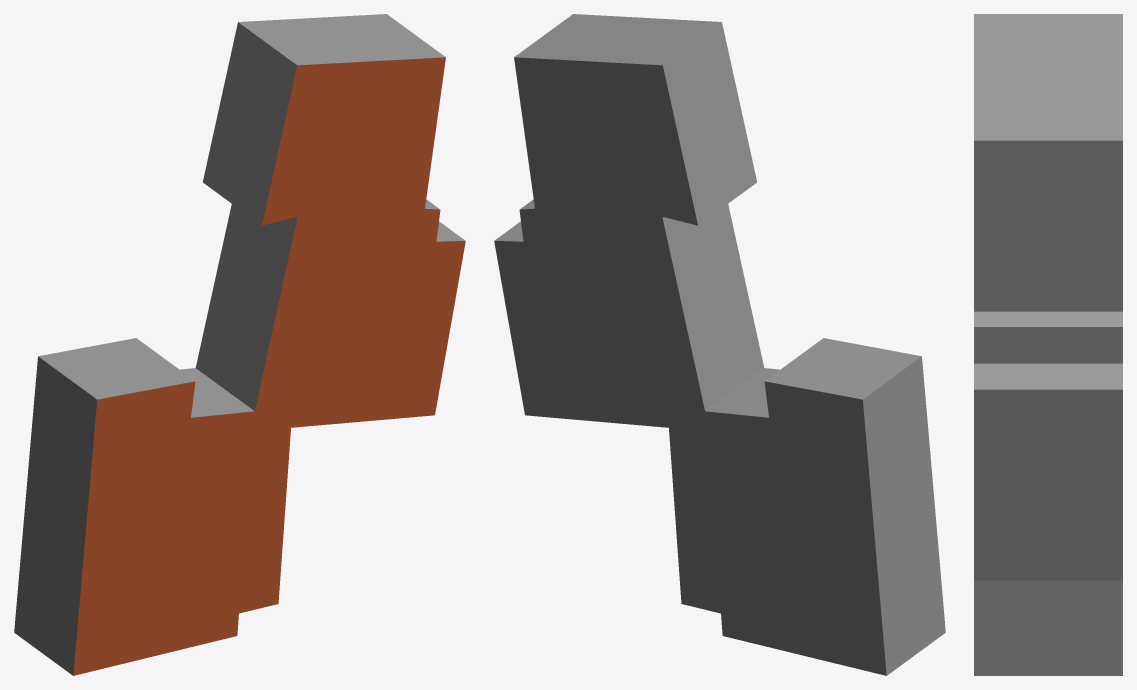
Rendered from construction_6181_assumed_A_Casa_h6m.obj.
The picture shows the model from 3 angles, left to right: view 1: azimuth 30°, elevation 25°; view 2: azimuth 150°, elevation 25°; view 3: azimuth 270°, elevation 25°; orthographic projection. The views are drawn at different scales.
Visible parts, largest first — view 1: construction_6181_assumed_A_Casa; view 2: construction_6181_assumed_A_Casa; view 3: construction_6181_assumed_A_Casa.
Part boxes in pixels (<box>): construction_6181_assumed_A_Casa: <box>14,14,465,675</box>; construction_6181_assumed_A_Casa: <box>494,14,945,675</box>; construction_6181_assumed_A_Casa: <box>974,14,1122,675</box>.
Bounding box in the file's own units: 22.98 × 31.1 × 6.
